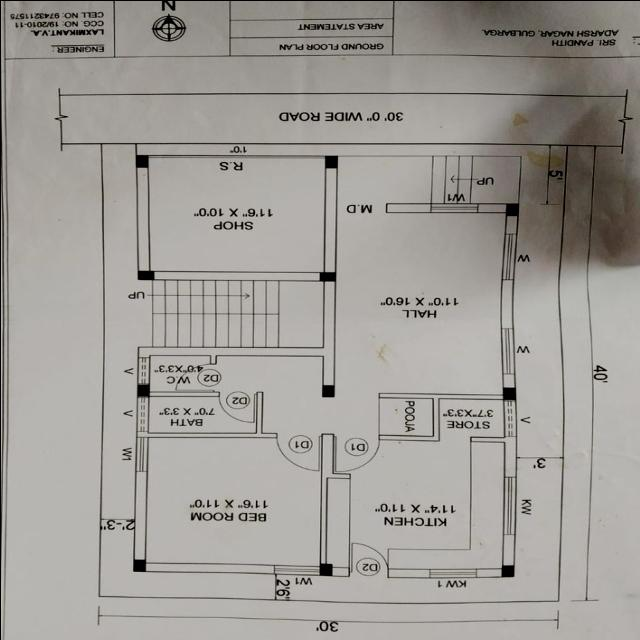column: (494, 382, 522, 404), (128, 552, 154, 574), (130, 380, 156, 400), (314, 267, 342, 285), (128, 151, 152, 171), (132, 265, 160, 282), (312, 558, 334, 578), (316, 382, 340, 400), (497, 561, 517, 579), (320, 152, 340, 170), (501, 200, 521, 218)
